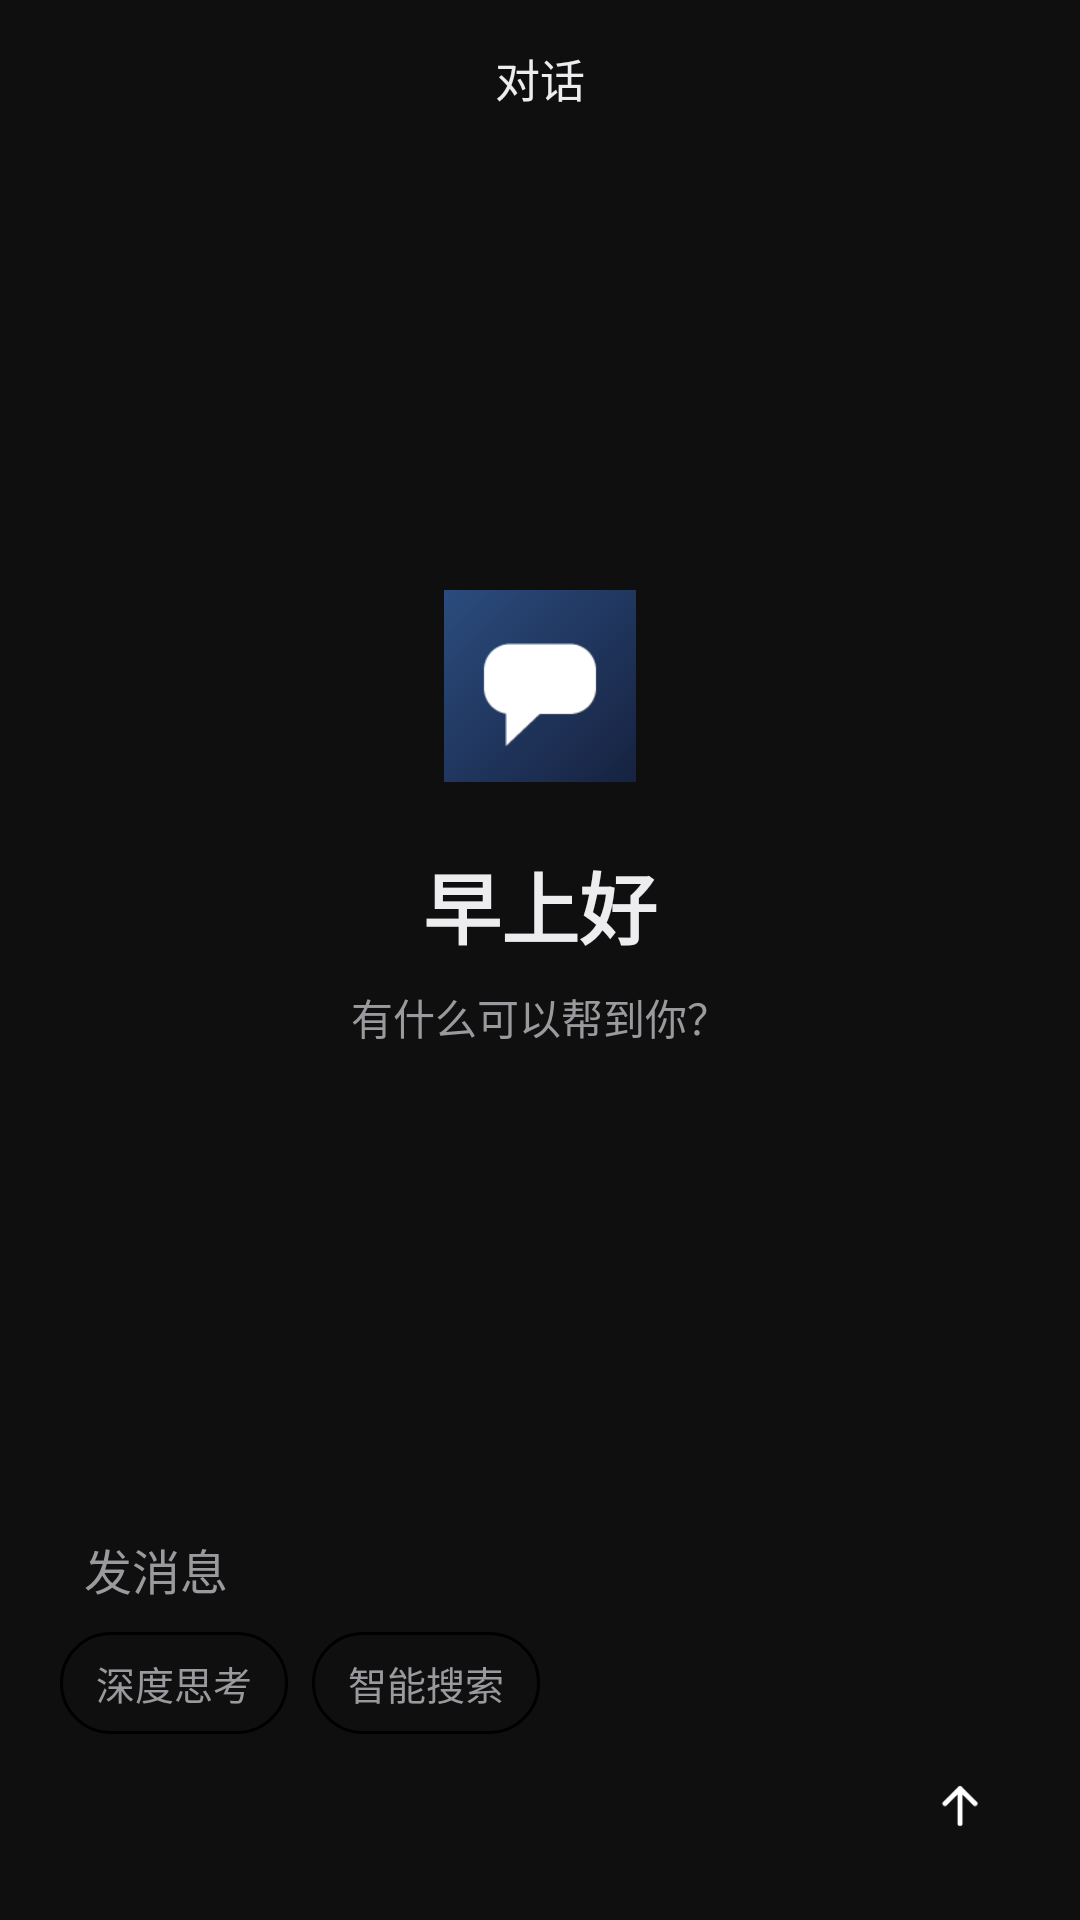

Screen size 1080px×1920px. Icon name, then its box in pixels as (x1=x1, y1=y1, x2=x2, y2=y2):
发送: (x1=942, y1=1786, x2=978, y2=1826)
